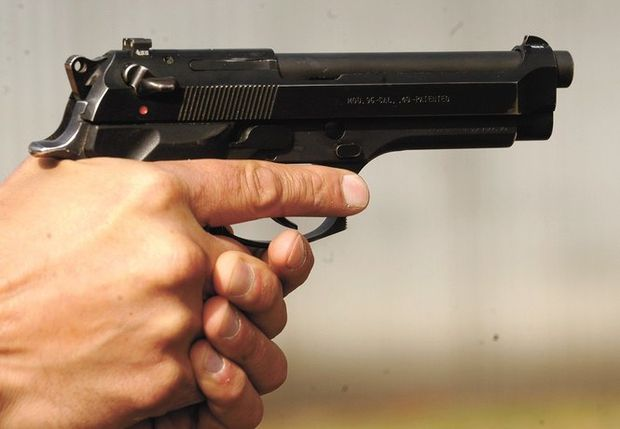gun: (37, 23, 543, 273)
